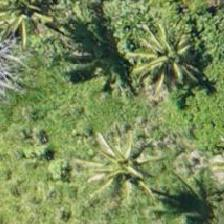coconut_tree: (73, 119, 163, 209), (119, 9, 209, 99), (0, 0, 69, 57)
